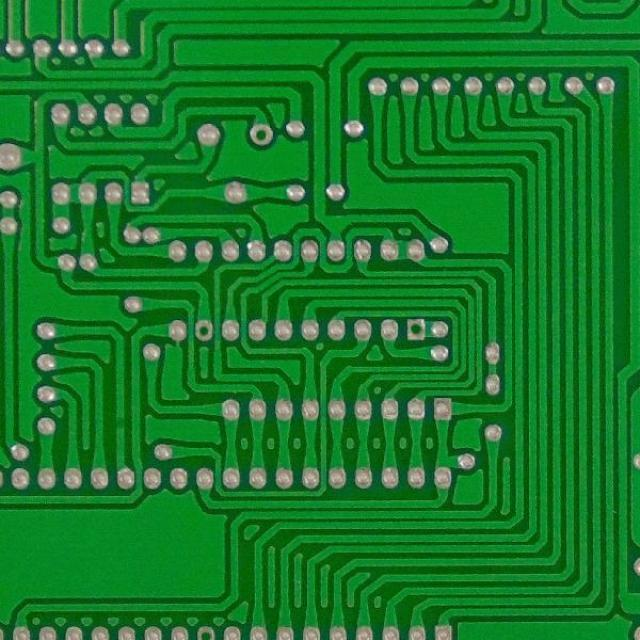Missing_Hole: (404, 316, 428, 345), (246, 122, 274, 146), (196, 319, 212, 341), (194, 626, 218, 640)
